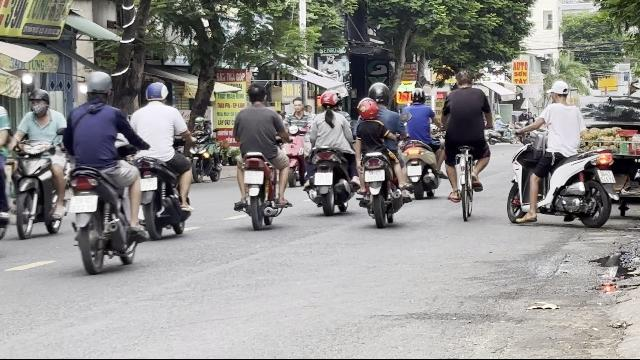helmet: (83, 70, 113, 102), (367, 81, 391, 105), (28, 88, 50, 114), (144, 80, 168, 103), (357, 98, 379, 120), (317, 90, 338, 110), (410, 88, 426, 104)
licenseplate: (68, 195, 98, 213), (244, 170, 264, 184), (598, 170, 616, 184), (365, 170, 385, 182), (315, 173, 333, 185), (140, 178, 156, 188), (407, 165, 421, 175)
motorcyclist: (505, 78, 619, 228), (60, 69, 142, 273), (129, 80, 195, 240), (229, 82, 291, 228), (7, 87, 67, 237), (352, 81, 404, 226), (303, 89, 357, 215), (399, 86, 443, 200)
nohelmet: (548, 80, 570, 103), (246, 83, 266, 105)
